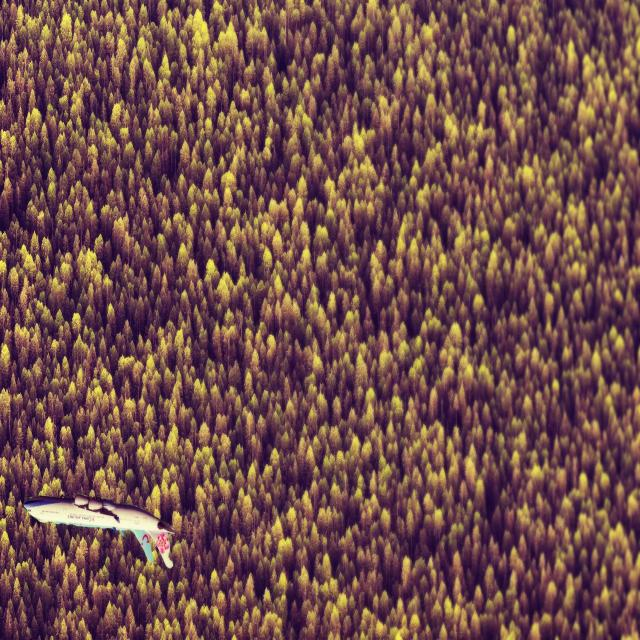airplane: (22, 492, 175, 570)
